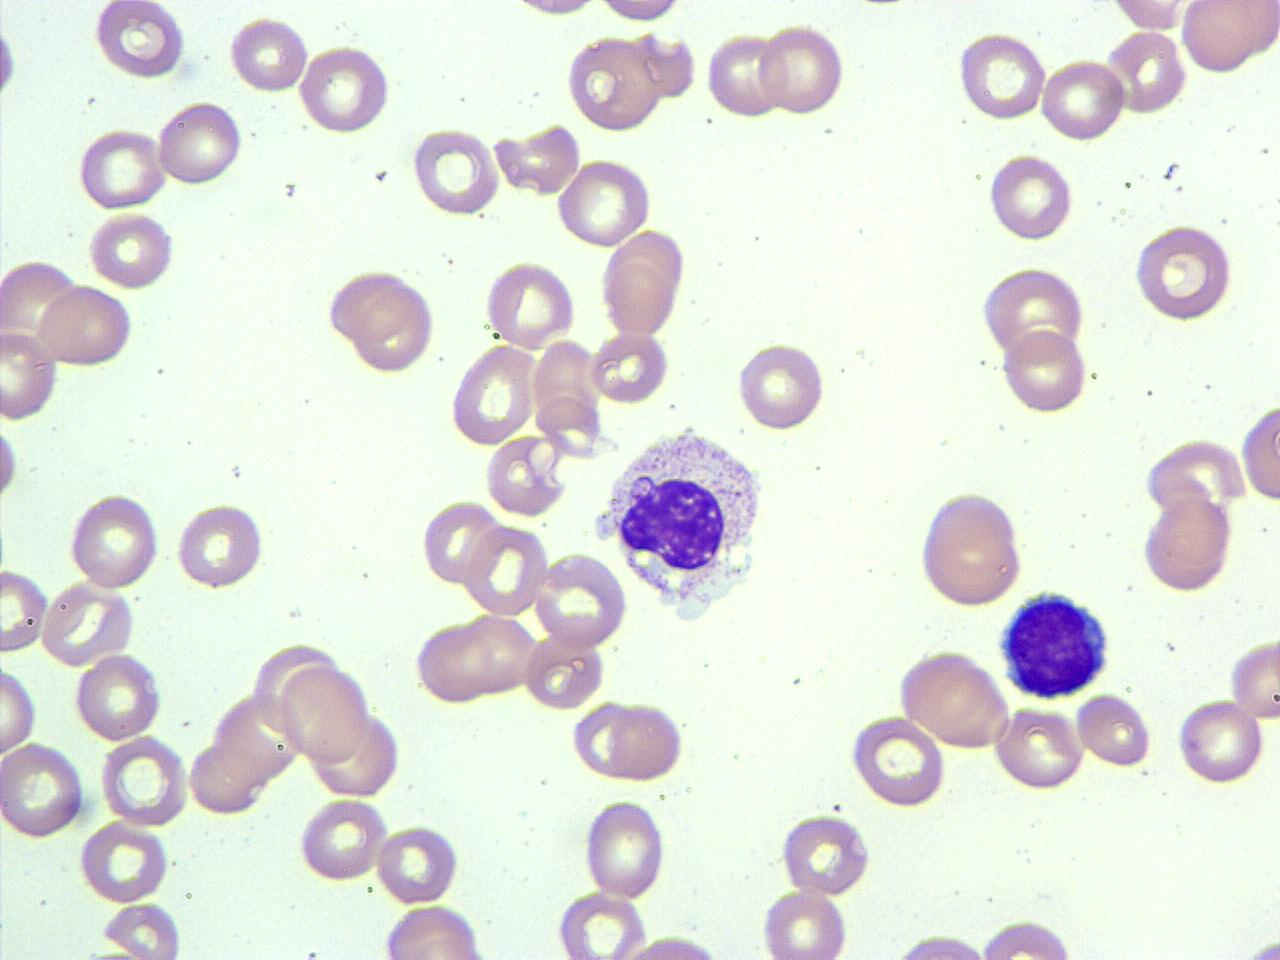Platelets: (0, 22, 19, 105), (1249, 938, 1280, 960)
RBC: (796, 672, 1276, 960), (323, 266, 440, 377), (916, 488, 1025, 608), (893, 647, 1012, 750), (1131, 222, 1237, 324), (978, 263, 1089, 360), (598, 226, 690, 338), (1138, 495, 1236, 595), (534, 550, 630, 650), (848, 713, 948, 809), (66, 490, 160, 592), (554, 155, 656, 250), (566, 34, 663, 132), (449, 341, 536, 448), (580, 796, 668, 901), (278, 663, 371, 762), (296, 42, 396, 135), (32, 283, 137, 371), (734, 338, 828, 434), (37, 579, 138, 668), (97, 732, 191, 826), (482, 258, 578, 351), (210, 689, 306, 781), (758, 19, 847, 119), (173, 499, 268, 591), (956, 28, 1047, 124), (776, 810, 876, 896), (1142, 435, 1248, 516), (0, 738, 86, 839), (308, 708, 402, 800), (77, 816, 172, 906), (408, 124, 500, 217), (461, 521, 547, 619), (1174, 695, 1266, 787), (986, 150, 1075, 244), (296, 796, 390, 884), (991, 704, 1087, 790), (155, 97, 245, 189), (74, 653, 163, 743), (1038, 55, 1128, 145), (1000, 326, 1089, 416), (528, 336, 604, 442), (411, 618, 502, 706), (89, 1, 189, 80), (76, 125, 168, 210), (84, 210, 177, 290), (376, 821, 464, 906), (702, 30, 785, 120), (1177, 1, 1279, 74), (418, 497, 500, 586), (482, 432, 566, 516), (1106, 27, 1188, 114), (226, 11, 310, 95), (602, 700, 688, 782), (494, 120, 582, 199), (462, 610, 541, 696), (758, 886, 850, 960), (522, 633, 608, 712), (379, 902, 493, 960), (554, 891, 650, 959), (1074, 691, 1152, 770), (590, 330, 672, 404), (186, 739, 268, 814), (92, 899, 187, 960), (0, 327, 60, 421), (532, 390, 604, 460), (1236, 396, 1280, 507), (0, 564, 52, 656), (1226, 634, 1278, 724), (976, 918, 1083, 958), (0, 663, 40, 758), (1106, 0, 1188, 34), (592, 0, 690, 25), (501, 0, 604, 24), (0, 8, 22, 116), (0, 414, 21, 509)
WBC: (602, 424, 768, 628), (996, 586, 1115, 703), (865, 930, 1015, 960)
